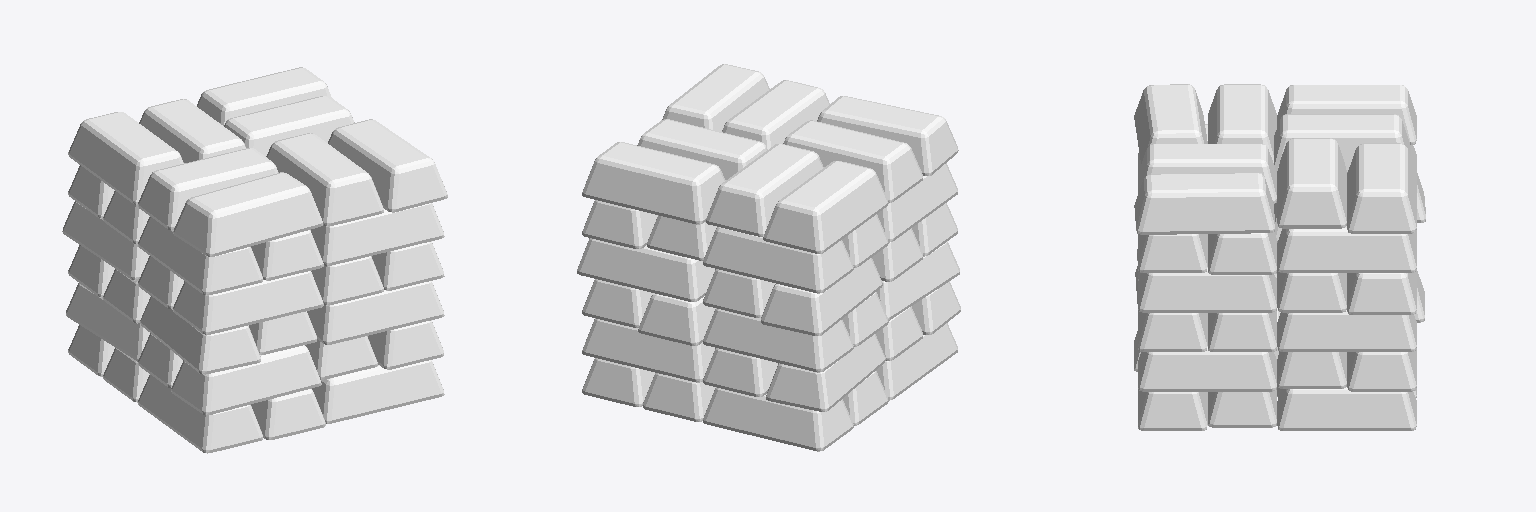
The model's file is Silver_Bars_Stack_Large.obj.
3 views of the same model, side by side, from view 1: azimuth 30°, elevation 25°; view 2: azimuth 150°, elevation 25°; view 3: azimuth 270°, elevation 25° (orthographic).
Visible parts, largest first — view 1: Silver_Bars_Stack_Large; view 2: Silver_Bars_Stack_Large; view 3: Silver_Bars_Stack_Large.
Boxes of the visible parts, x1,y1,x2,y2 form: Silver_Bars_Stack_Large: [62, 67, 447, 453]; Silver_Bars_Stack_Large: [577, 64, 960, 451]; Silver_Bars_Stack_Large: [1134, 84, 1425, 430].
Bounding box in the file's own units: 1.66 × 1.5 × 1.68.